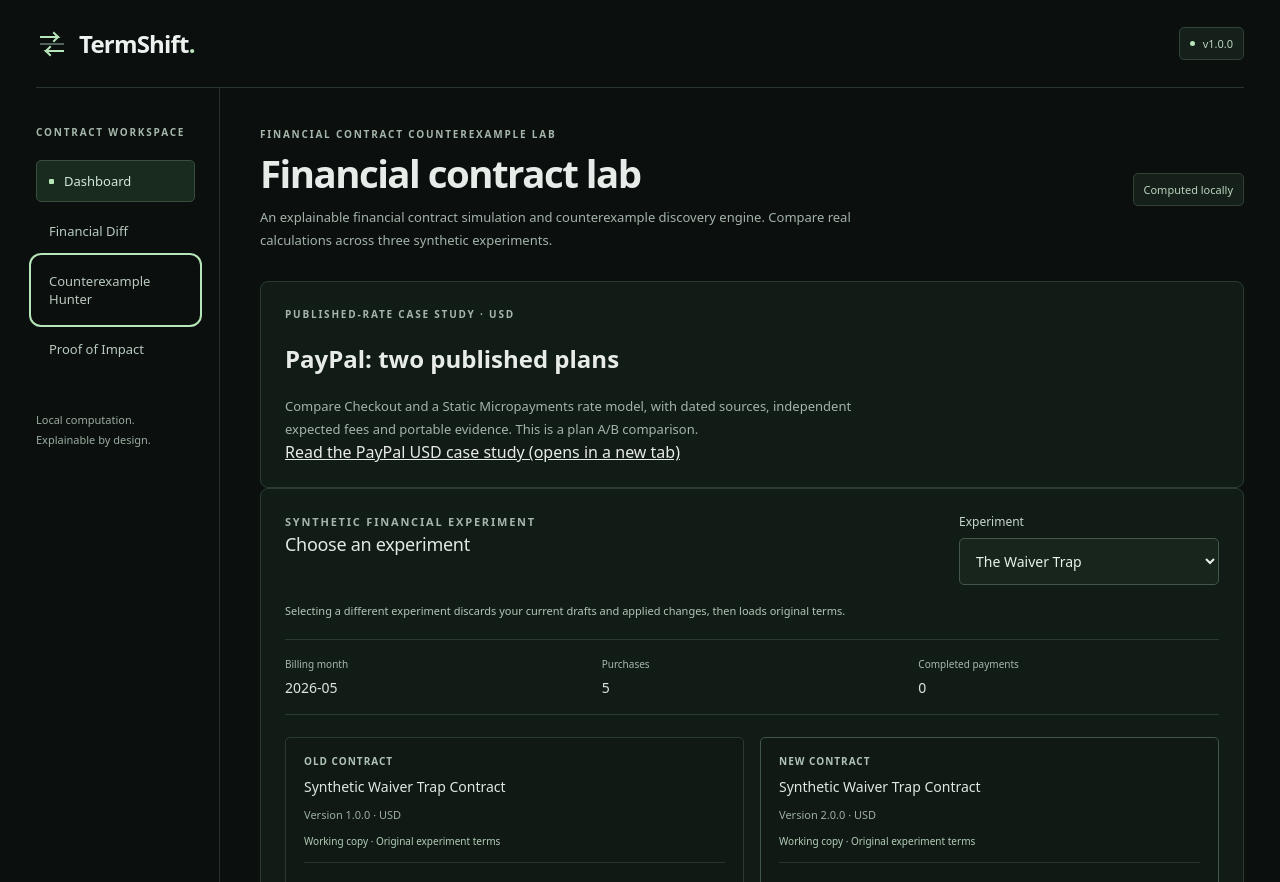
Test: Counterexample Hunter navigation and neutral search base › provides a focusable third view with current-page state and a matching skip target
Click the button "Counterexample Hunter" at (116, 290), box top-left (36, 260), bottom-right (195, 320)
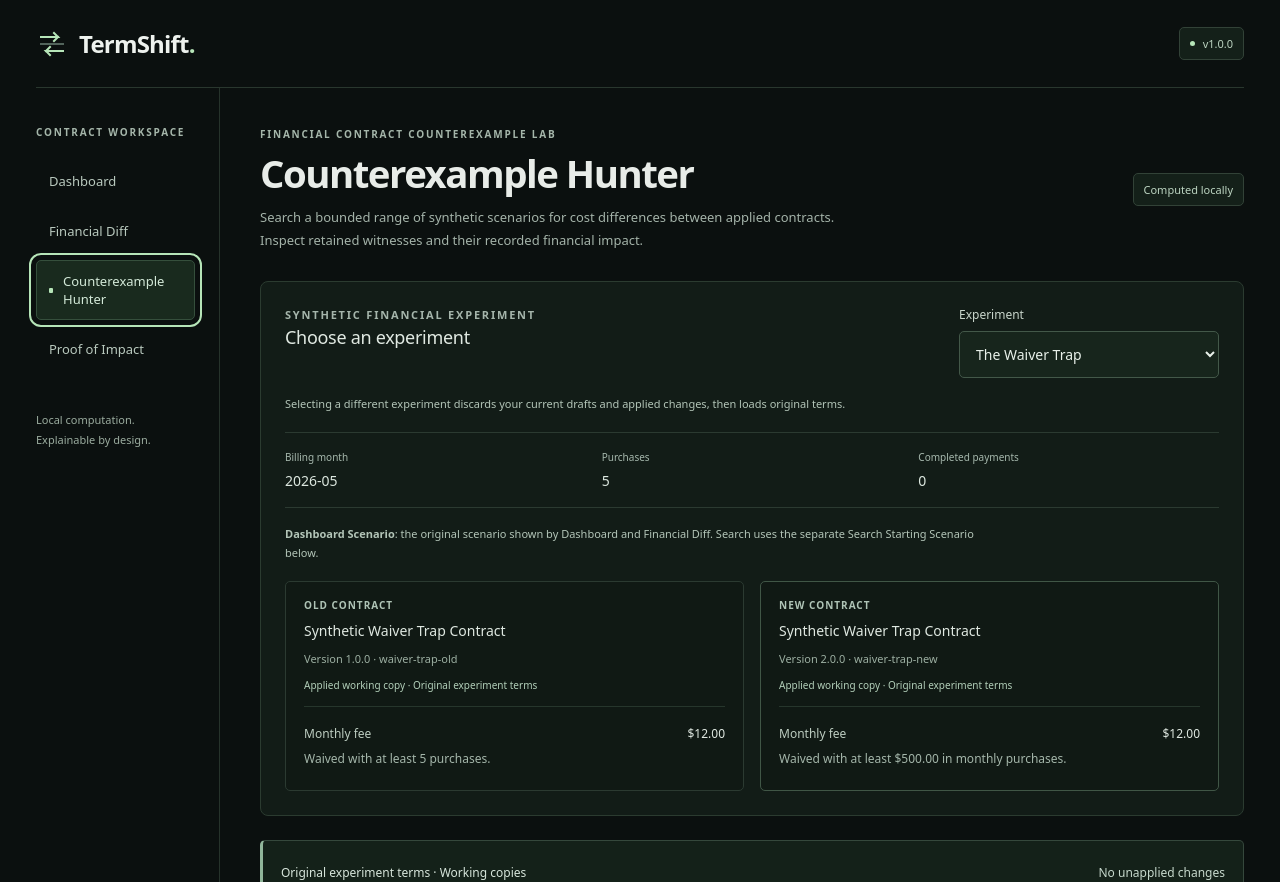
Expected: the button "Proof of Impact" is shown, top-left (36, 328), bottom-right (195, 370)
Result: the heading "Counterexample Hunter" is shown at top-left (260, 147), bottom-right (694, 199)
